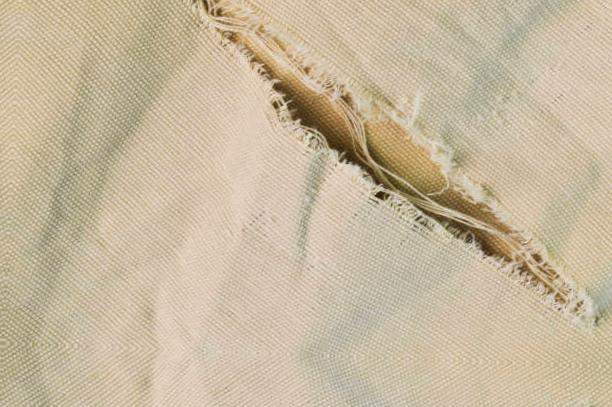hole: (175, 0, 605, 343)
